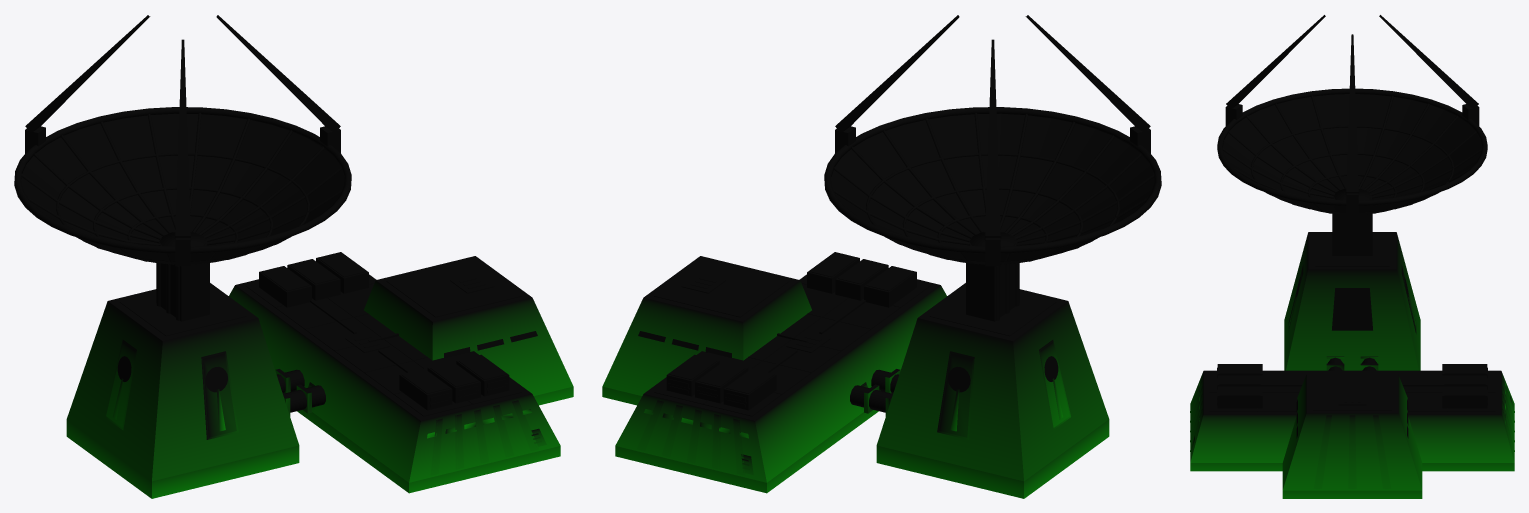
File: hpgstation.glb
3 renders of one model, left to right at view 1: azimuth 30°, elevation 25°; view 2: azimuth 150°, elevation 25°; view 3: azimuth 270°, elevation 25°, orthographic. The views are drawn at different scales.
Parts seen in each view (by area): view 1: lod0; view 2: lod0; view 3: lod0.
Boxes of the visible parts, x1=… form: lod0: x1=14, y1=15, x2=573, y2=498; lod0: x1=602, y1=15, x2=1161, y2=498; lod0: x1=1190, y1=15, x2=1514, y2=498.
Size of what is drawn, in the model's own units: 58.88 by 48.68 by 41.89.
